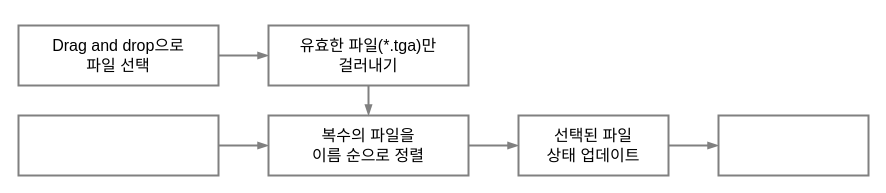
The diagram is 886 pixels wide and 193 high, and some of its shapes have lost their labels. The shapes that lost their labels are listed below. From the top down, each one's centre as x and y in pixels, then its label:
pixel 118 145: <input type="file"> 에서 파일 선택
pixel 793 145: 파일 선택 완료
